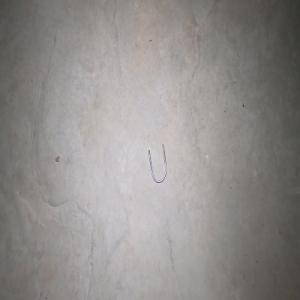ClampPart: (147, 143, 166, 183)
